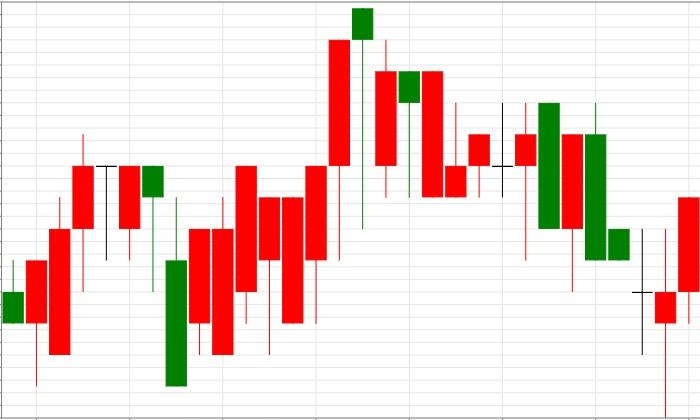hanging_man_fall: (189, 8, 373, 354)
